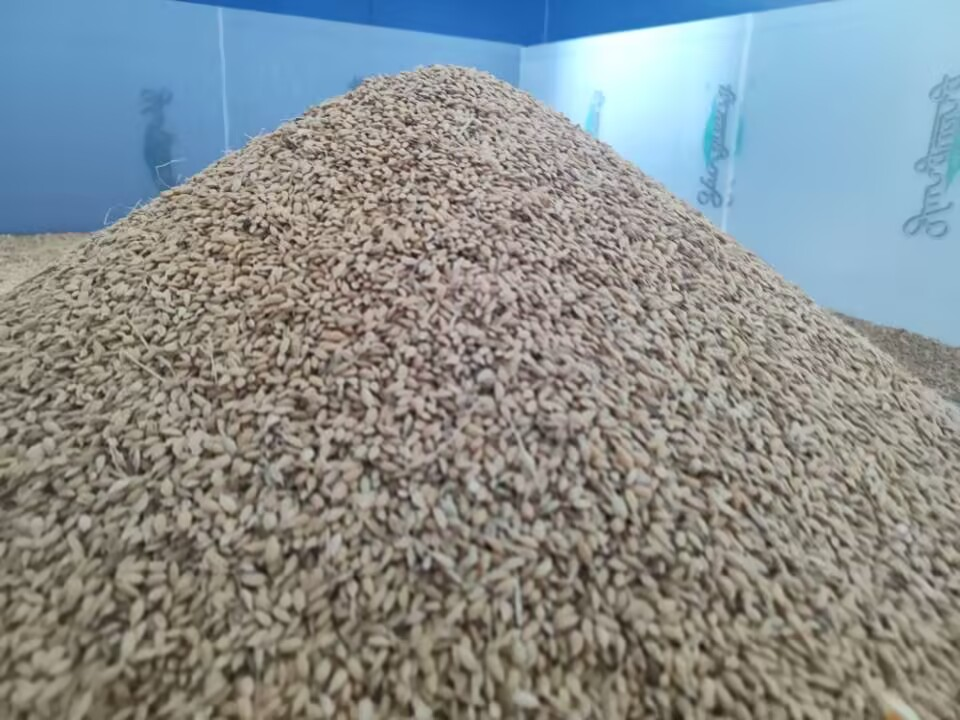Grain: (88, 48, 911, 690)
